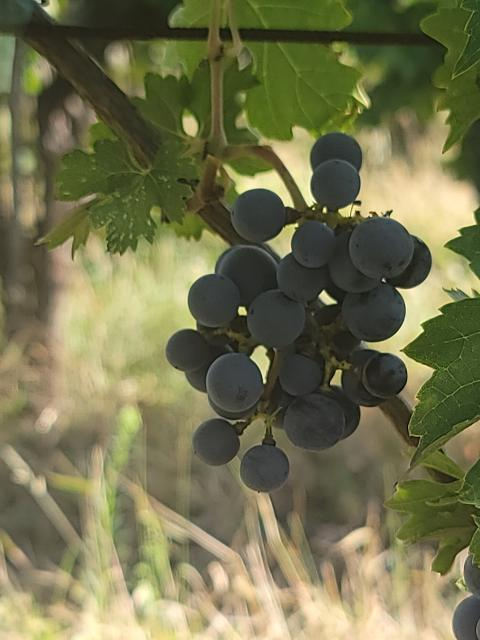grapes: (166, 132, 431, 491)
